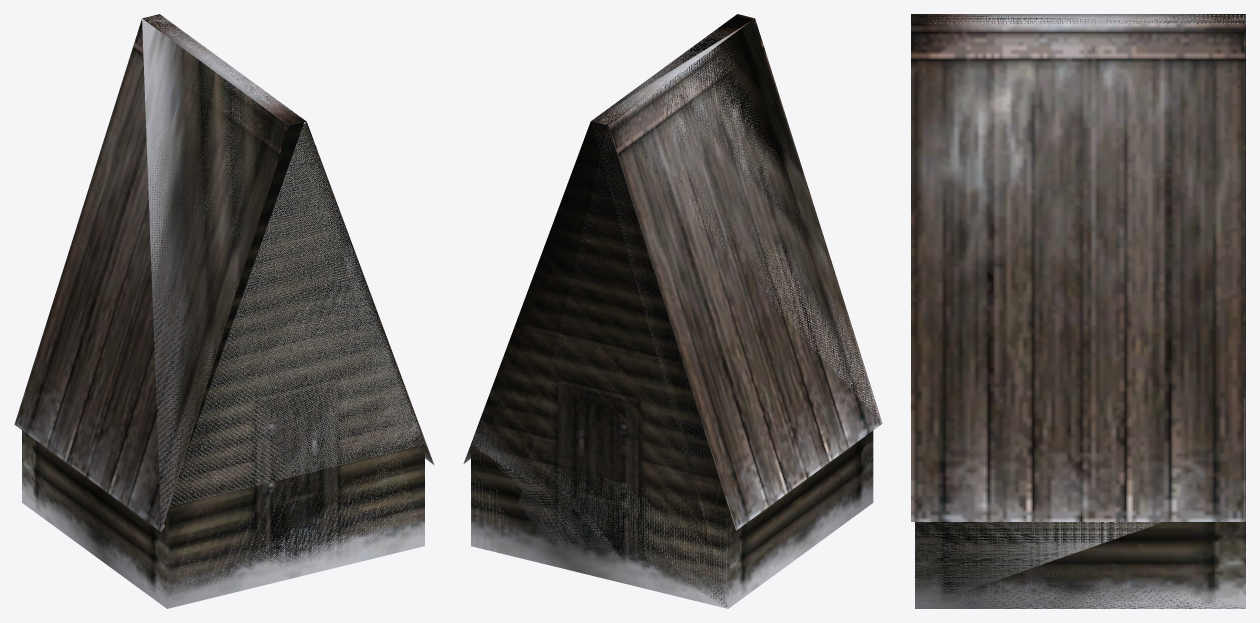
Rendered from stbuho27.dae.
3 renders of one model, left to right at view 1: azimuth 30°, elevation 25°; view 2: azimuth 150°, elevation 25°; view 3: azimuth 270°, elevation 25°, orthographic. The views are drawn at different scales.
Visible parts, largest first — view 1: house, kitchen, roof1, roof6, roof3, roof7, enter; view 2: house, roof7, roof1, kitchen; view 3: house, kitchen, roof1, roof7.
Boxes of the visible parts, x1,y1,x2,y2 form: house: [14, 14, 434, 608]; kitchen: [142, 14, 424, 506]; roof1: [142, 18, 423, 545]; roof6: [167, 123, 424, 608]; roof3: [167, 123, 421, 608]; roof7: [107, 20, 423, 544]; enter: [172, 445, 424, 543]; house: [463, 14, 882, 608]; roof7: [471, 122, 728, 606]; roof1: [471, 15, 881, 591]; kitchen: [471, 29, 727, 607]; house: [911, 14, 1245, 608]; kitchen: [915, 14, 1245, 608]; roof1: [915, 14, 1245, 608]; roof7: [1245, 24, 1245, 492].
Size of the model in its own units: 3.5 by 3.26 by 5.56.
Materials: 2 (1 with a texture image).
